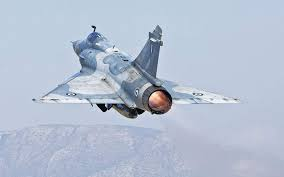fighter: (30, 19, 242, 122)
